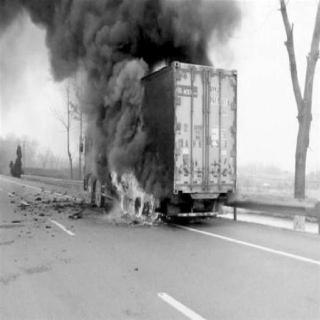Smoke: (28, 2, 240, 62), (82, 69, 152, 169)
